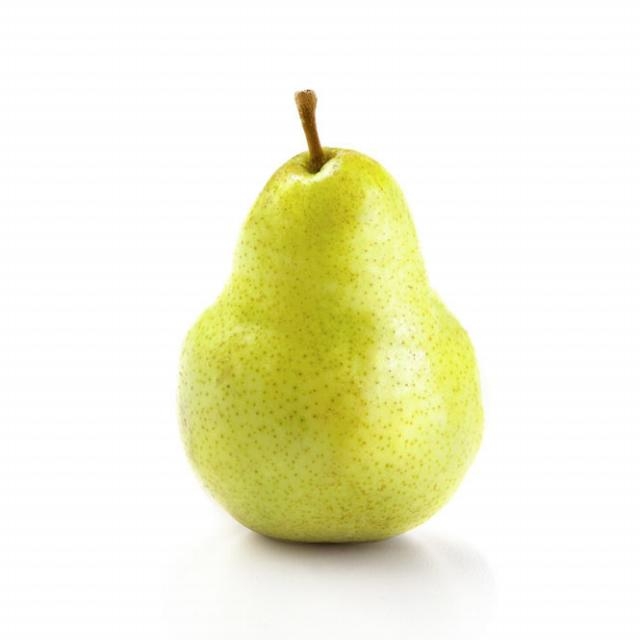pear: (178, 69, 478, 556)
